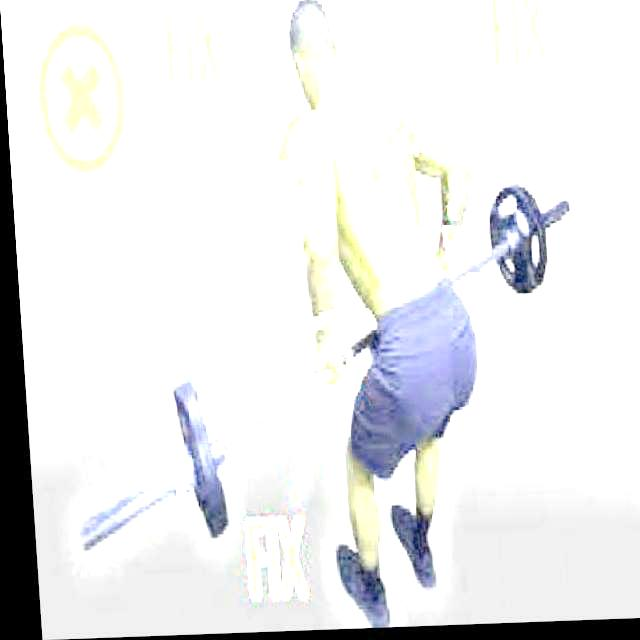barbell: (59, 374, 223, 564)
